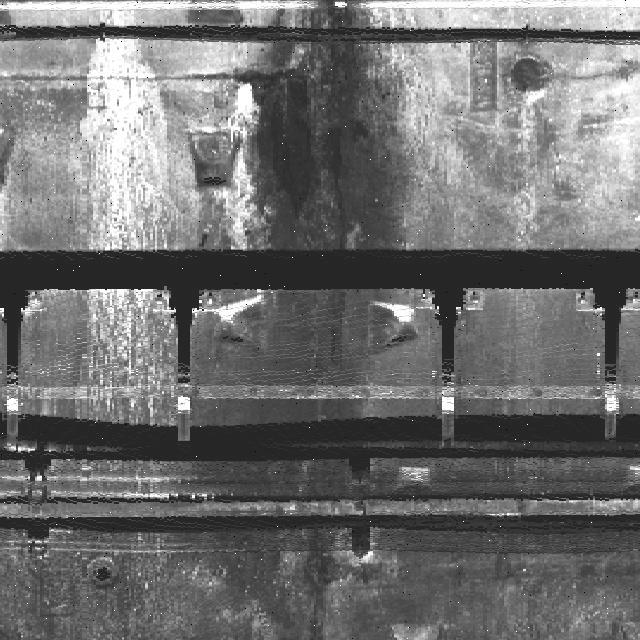leakage: (172, 286, 391, 639), (233, 1, 429, 248)
